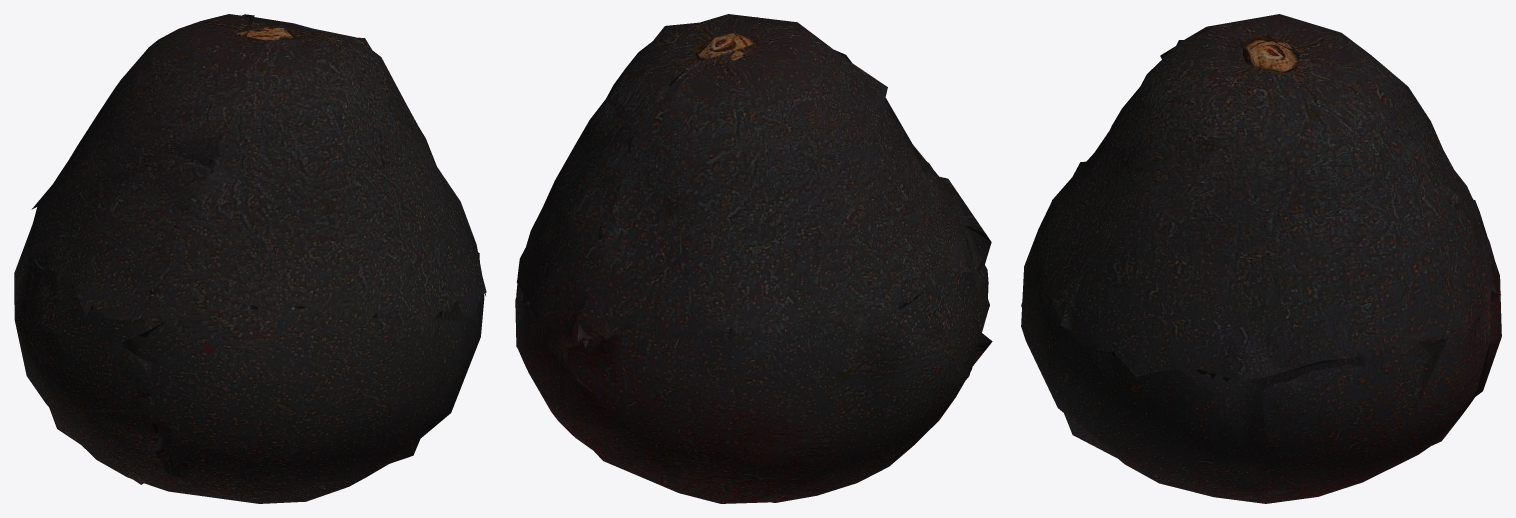
Rendered from avocado.glb.
3 renders of one model, left to right at view 1: azimuth 30°, elevation 25°; view 2: azimuth 150°, elevation 25°; view 3: azimuth 270°, elevation 25°, orthographic. The views are drawn at different scales.
Visible parts, largest first — view 1: avocado-fine, avocado-coarse; view 2: avocado-fine, avocado-coarse; view 3: avocado-fine, avocado-coarse.
Boxes of the visible parts, <box> form: avocado-fine: <box>14,14,485,503</box>; avocado-coarse: <box>24,14,486,484</box>; avocado-fine: <box>516,14,988,503</box>; avocado-coarse: <box>515,17,992,459</box>; avocado-fine: <box>1021,14,1501,503</box>; avocado-coarse: <box>1021,35,1500,495</box>.
Bounding box in the file's own units: 1 × 1 × 1.
Materials: 1 (1 with a texture image).
